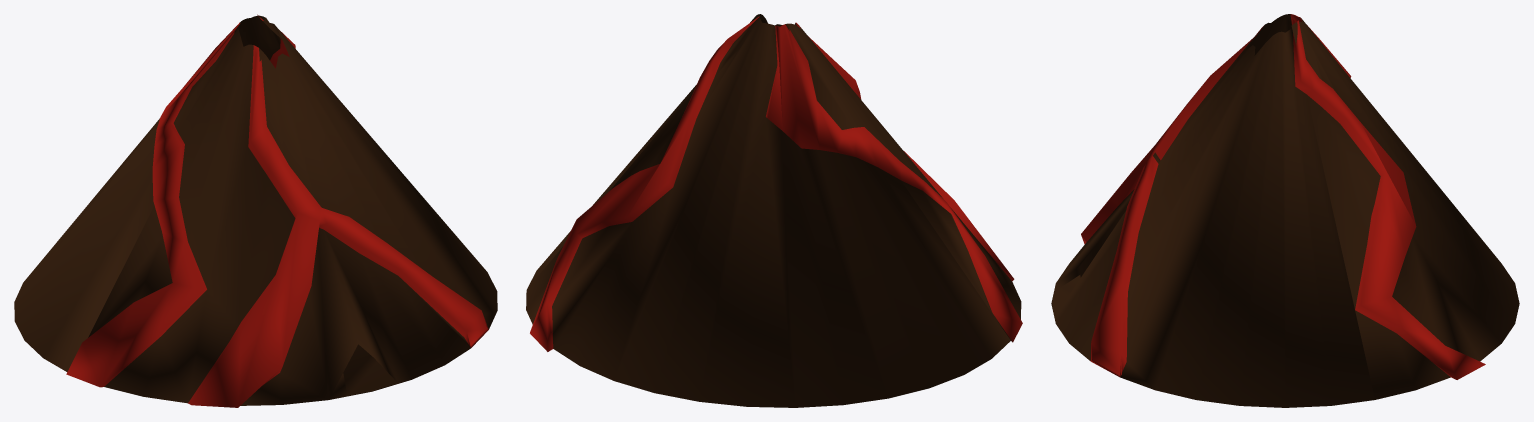
Rendered from Volcano.fbx.
3 renders of one model, left to right at view 1: azimuth 30°, elevation 25°; view 2: azimuth 150°, elevation 25°; view 3: azimuth 270°, elevation 25°, orthographic. The views are drawn at different scales.
Parts seen in each view (by area): view 1: Cone; view 2: Cone; view 3: Cone.
Boxes of the visible parts, left/top/right/bottom form: Cone: left=14, top=14, right=497, bottom=407; Cone: left=526, top=14, right=1022, bottom=407; Cone: left=1051, top=14, right=1519, bottom=407.
Bounding box in the file's own units: 1190 × 768 × 1128.
